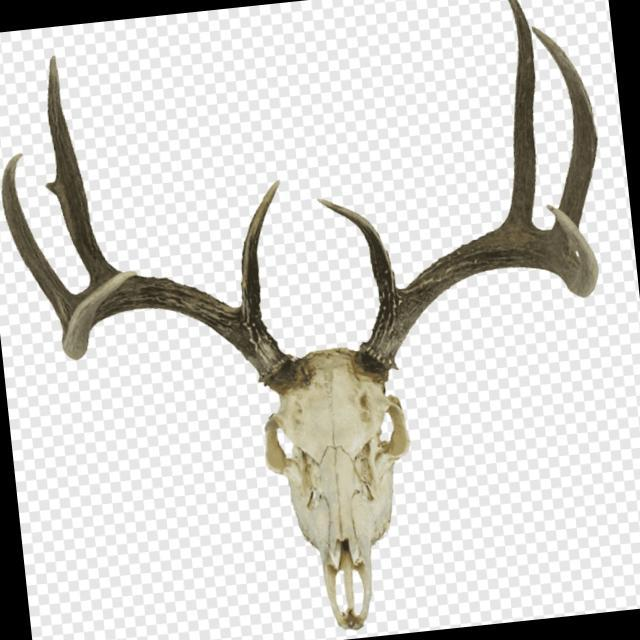E1: (44, 181, 58, 194)
L-F: (359, 204, 597, 371)
L-G1: (317, 198, 396, 305)
L-G2: (502, 0, 537, 229)
L-G3: (532, 25, 598, 226)
R-F: (62, 271, 289, 385)
R-G1: (239, 179, 280, 320)
R-G2: (47, 57, 117, 288)
R-G3: (1, 152, 82, 331)
